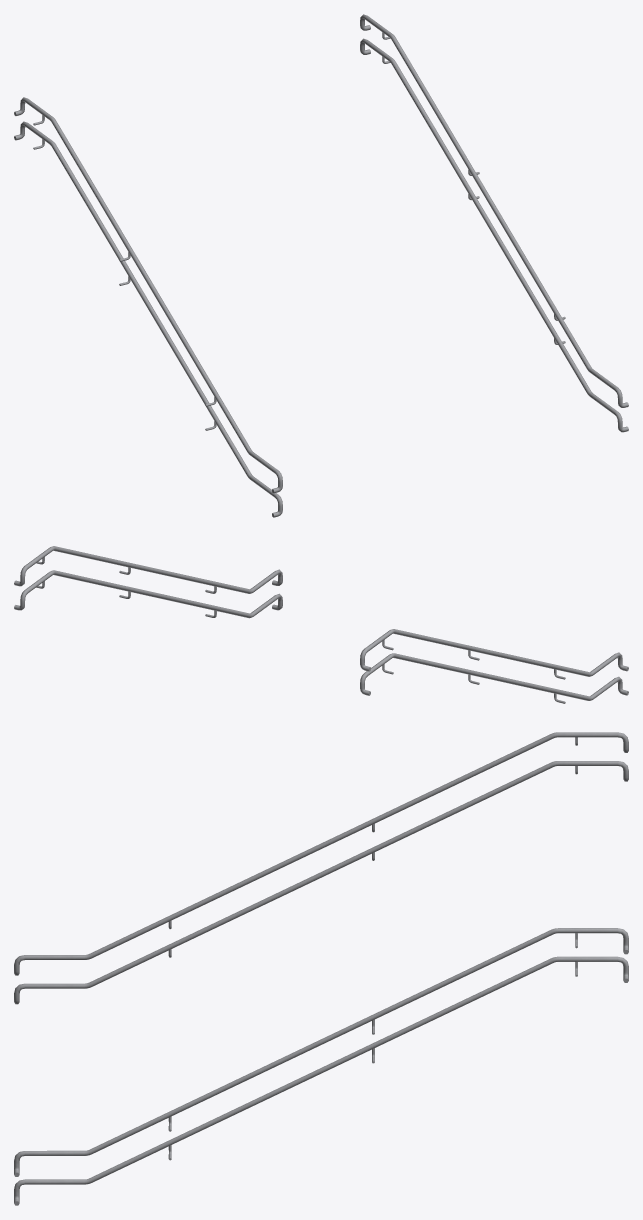
The model's file is gteki_ik_stair_n9_r173_t329_w2887_rails_wall.glb.
The picture shows the model from 3 angles, top to bottom: view 1: azimuth 30°, elevation 25°; view 2: azimuth 150°, elevation 25°; view 3: azimuth 270°, elevation 25°; orthographic projection. The views are drawn at different scales.
Visible parts, largest first — view 1: VIS_handrails; view 2: VIS_handrails, VIS_rail_supports; view 3: VIS_handrails.
Boxes of the visible parts, x1,y1,x2,y2 form: VIS_handrails: (14, 14, 628, 517); VIS_handrails: (14, 546, 628, 700); VIS_rail_supports: (36, 557, 565, 703); VIS_handrails: (14, 732, 628, 1205).
Size of the model in its own units: 3.11 by 1.91 by 3.9.
1 material, 1 textured.
